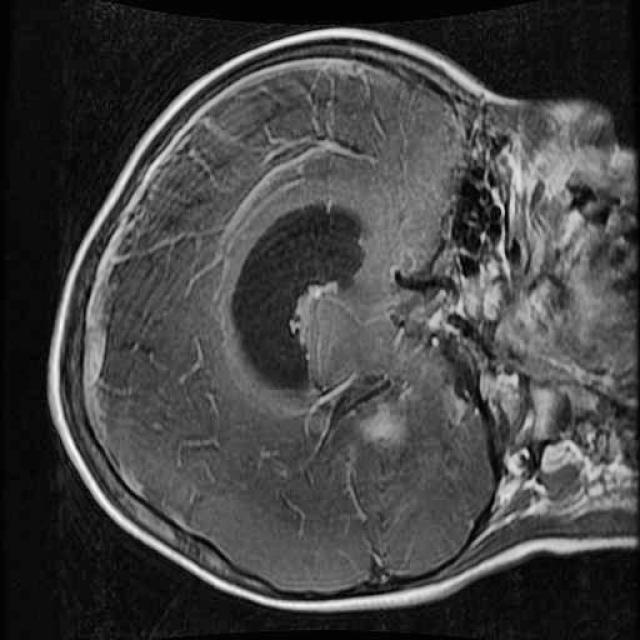Non-Tumor: (339, 381, 433, 469)
